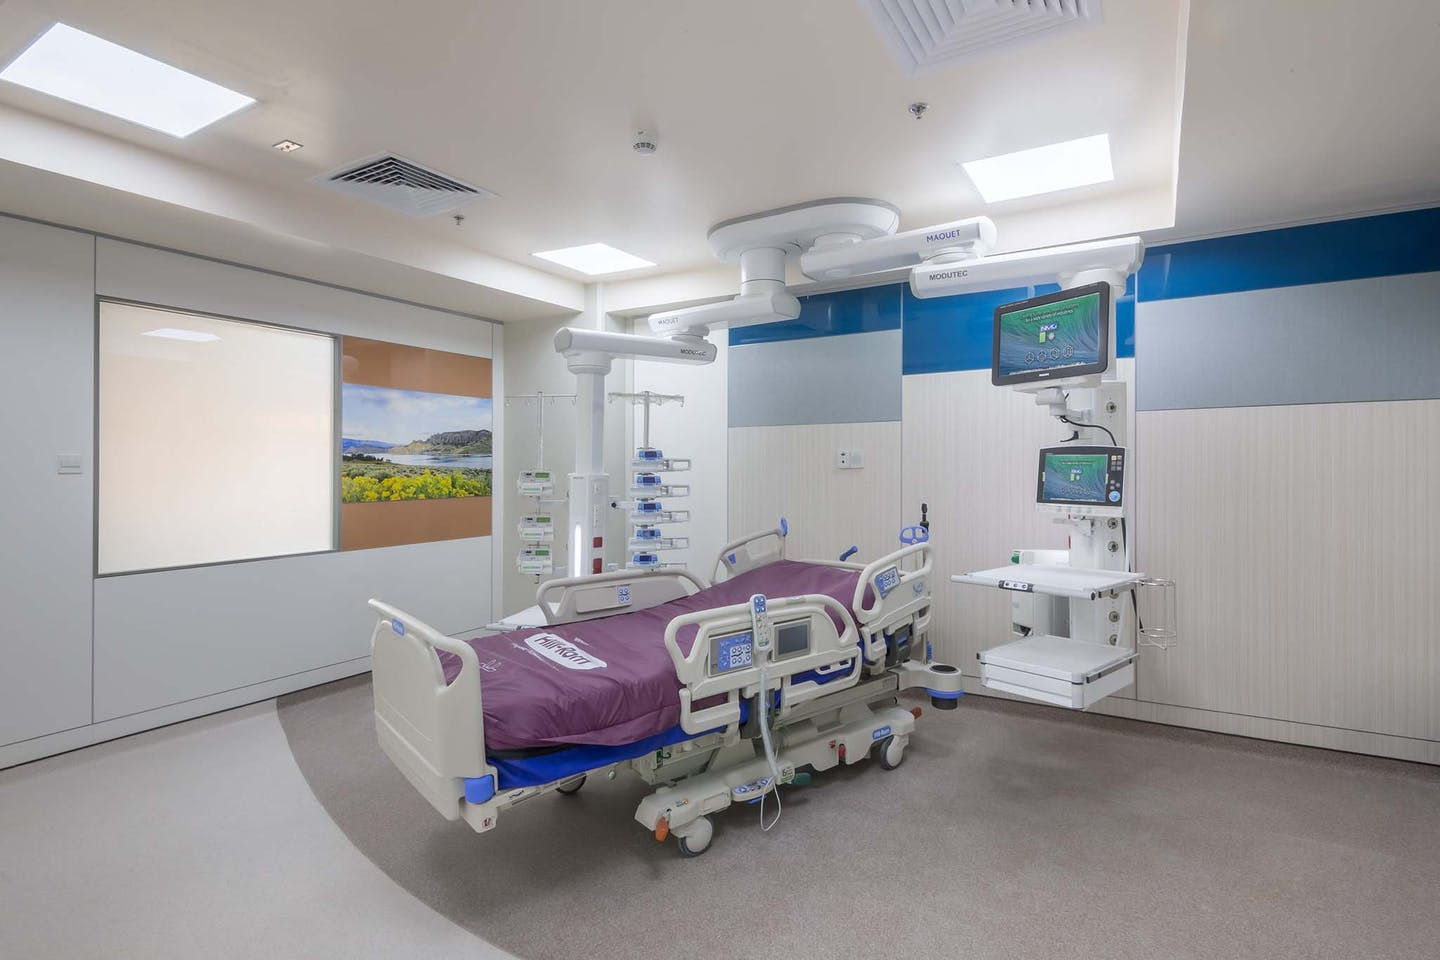bedrail: (665, 592, 860, 703), (531, 566, 709, 626), (850, 542, 933, 628), (710, 528, 786, 587)
bedside_monitor: (992, 279, 1114, 387), (1037, 444, 1123, 507)
foot_board: (366, 596, 500, 834)
hospital_bed: (367, 527, 964, 860)
iv_pole: (501, 392, 582, 565), (607, 390, 685, 445)
syringe_pump: (624, 552, 689, 577), (628, 447, 693, 472), (626, 530, 691, 555), (628, 500, 693, 525), (632, 474, 691, 496), (520, 513, 555, 541), (517, 547, 554, 573), (521, 472, 556, 497)
